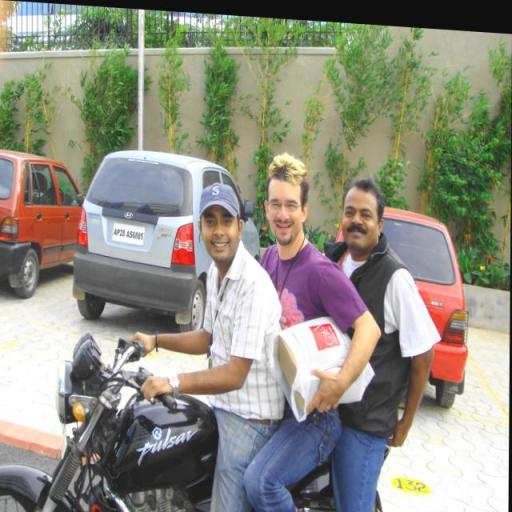tripple riding: (190, 145, 430, 512)
